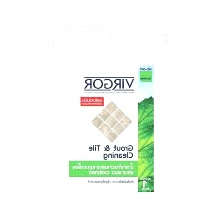cleaning_solution: (48, 13, 172, 211)
